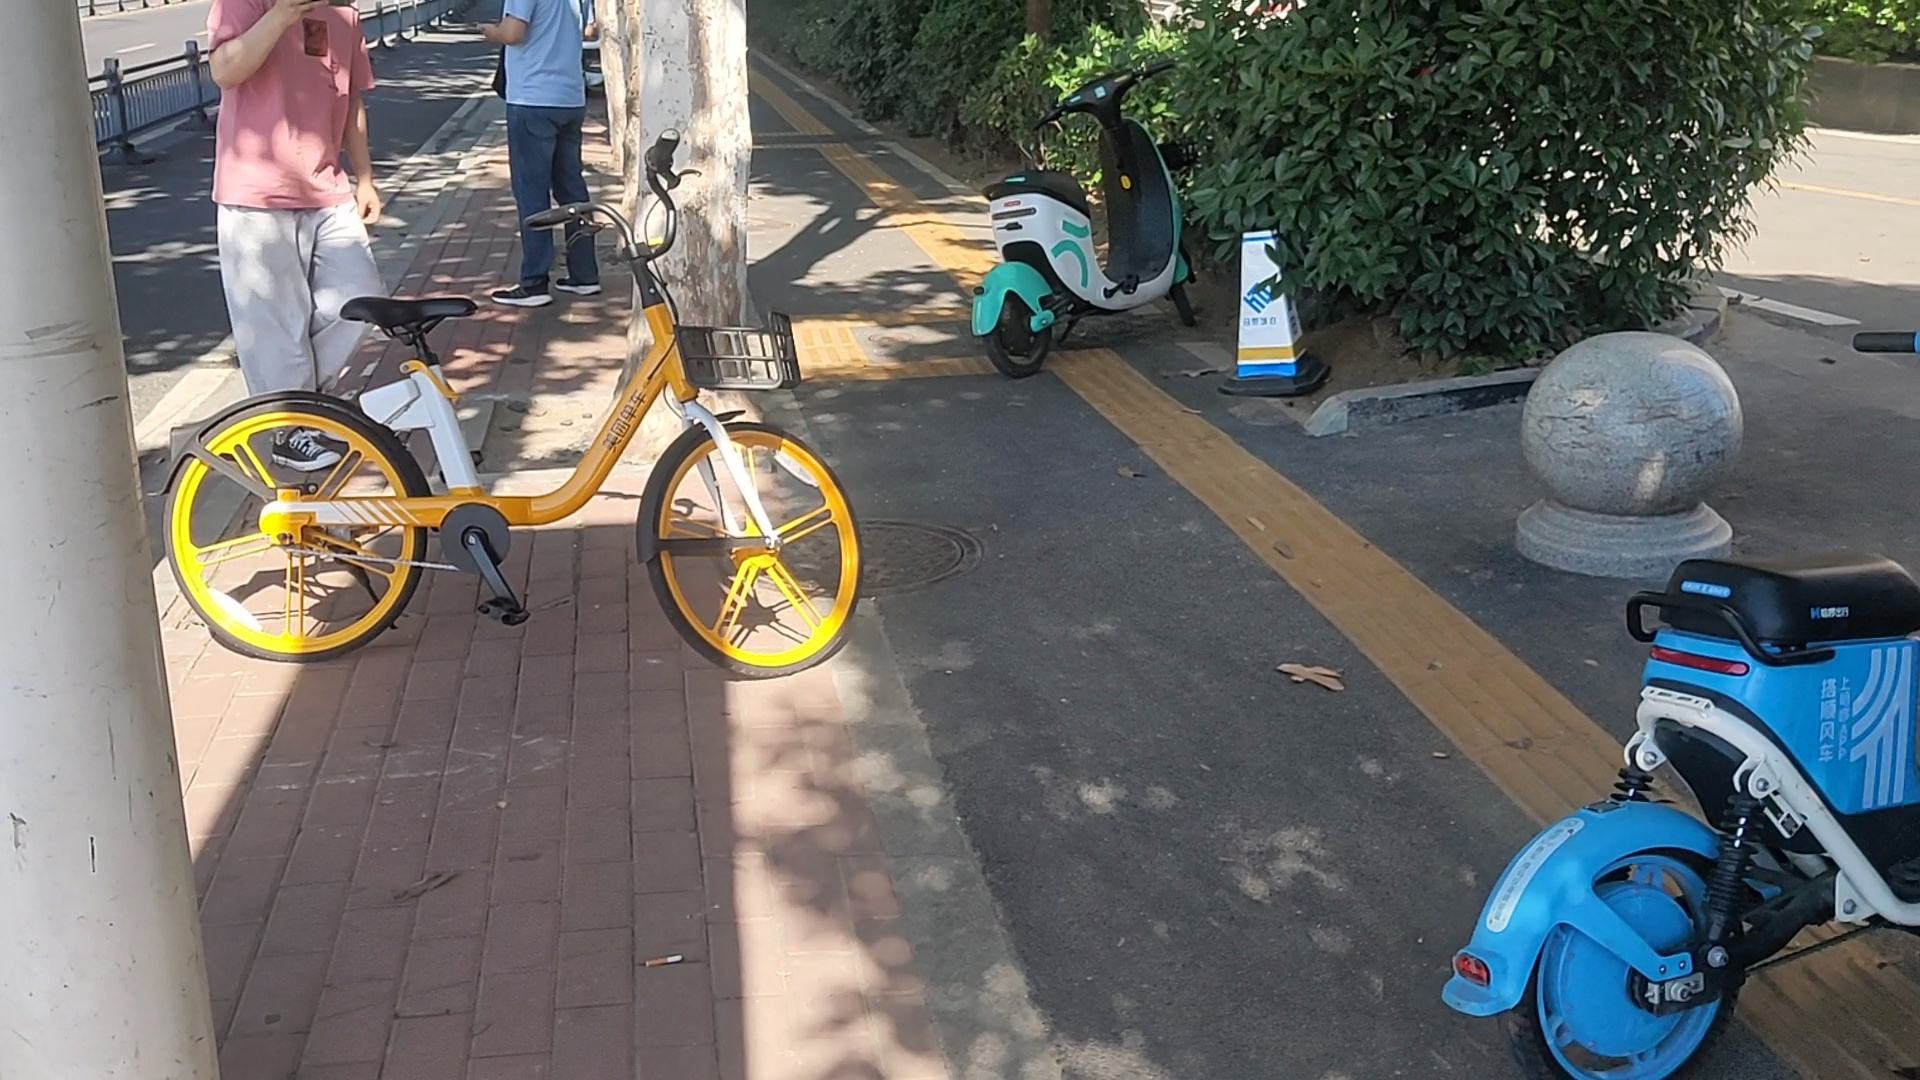non-vehicle: (181, 157, 855, 676), (1432, 546, 1920, 1080), (967, 57, 1200, 382)
